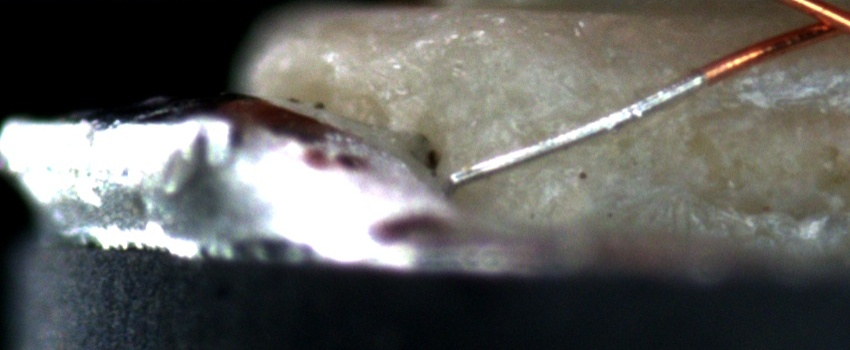CL: (775, 1, 848, 44)
DL: (600, 48, 850, 93)
TS: (448, 69, 705, 184)
